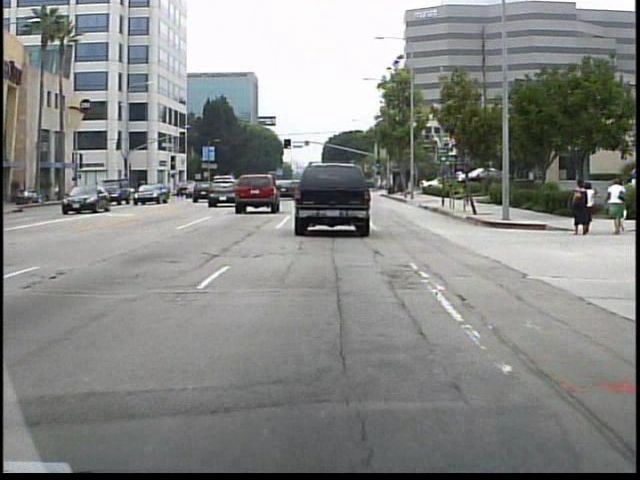person: (604, 173, 625, 234), (571, 176, 589, 237), (584, 180, 597, 233)
